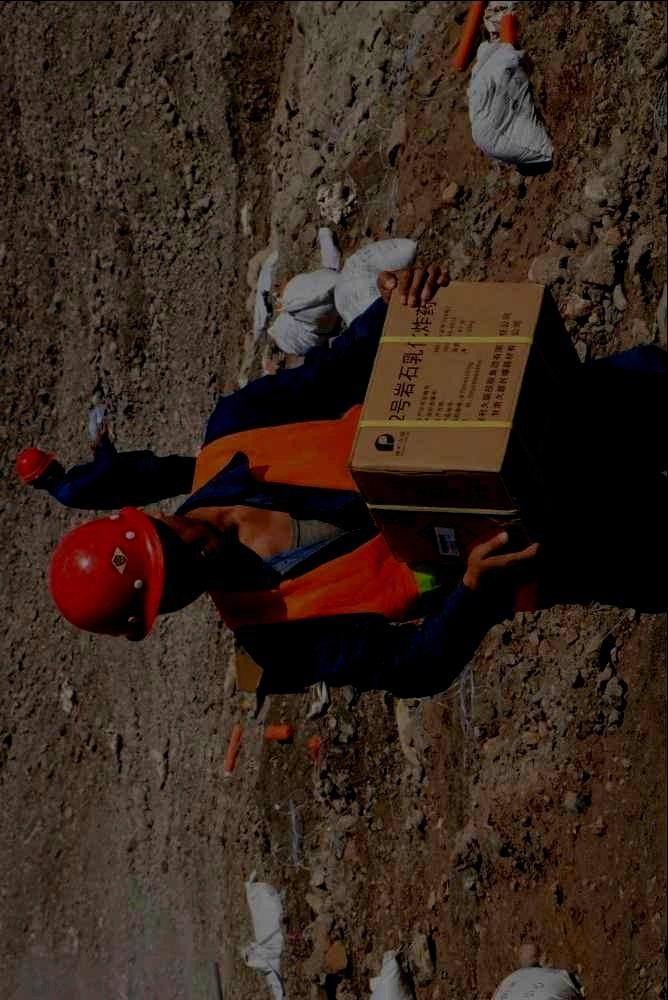helmet: (46, 505, 221, 643), (13, 447, 66, 491)
